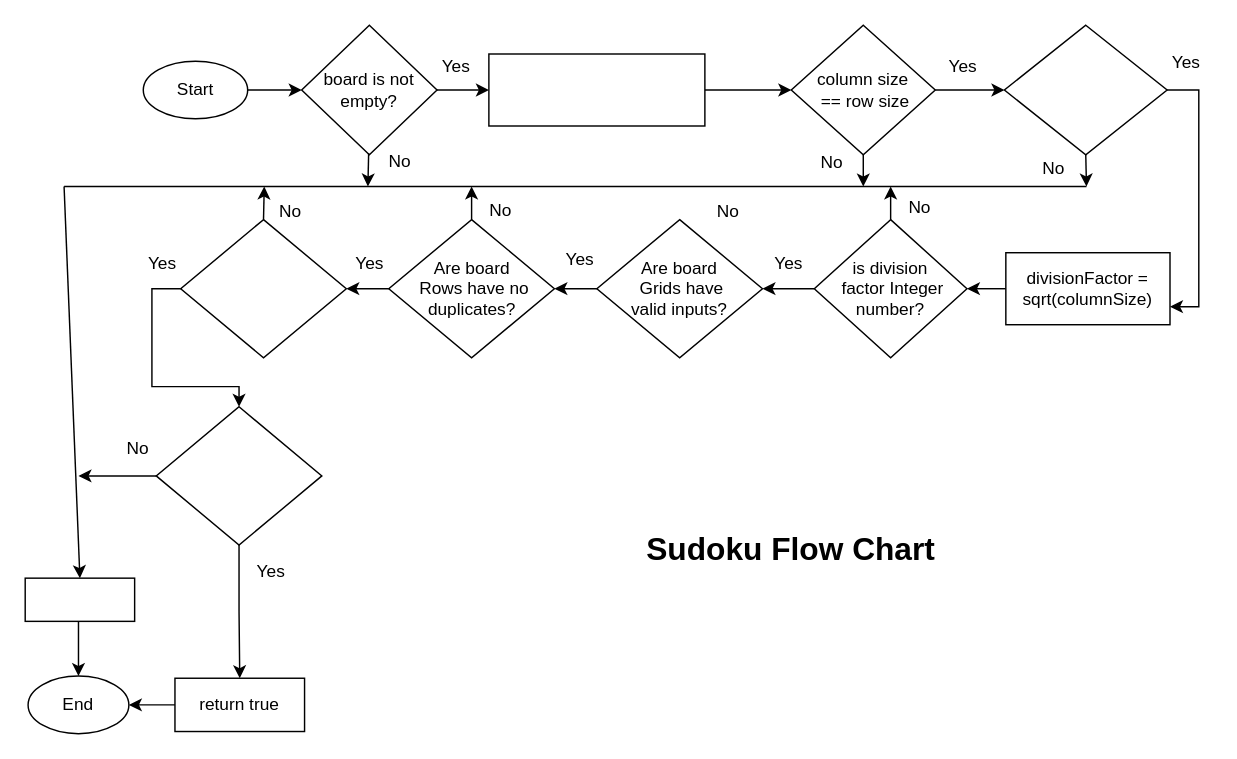
Image size: 1237x759. Some labels were removed from this diagram. The shapes that lost their labels are listed below. From the top down, each one's centre as x and y in pixels, then its label:
(596,89): columnSize = board[0].size rowSize = board.size
(1085,89): columnSize > 4
(262,288): Are board Grids have no duplicates?
(238,475): Are board columns have no duplicates?
(79,599): return false
